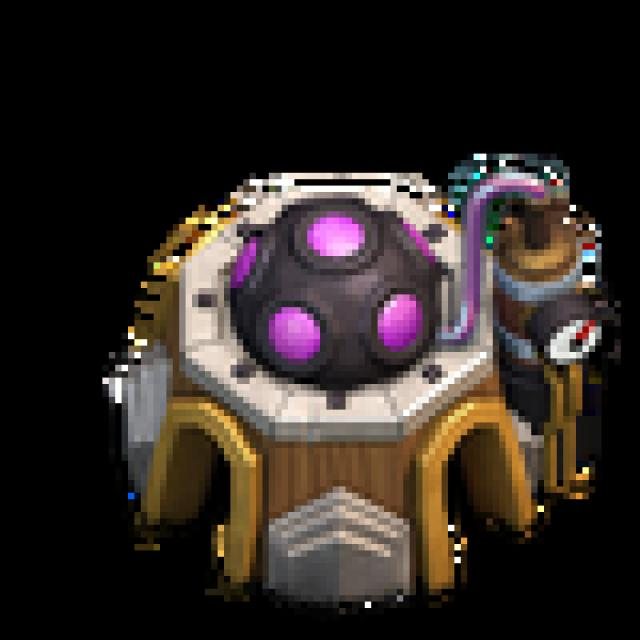laboratory: (86, 153, 624, 624)
